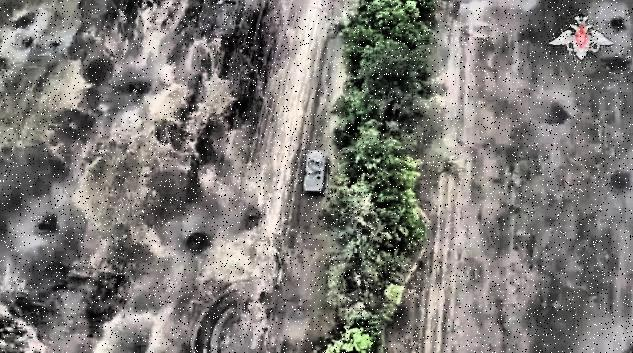military-vehicle: (304, 151, 329, 194)
